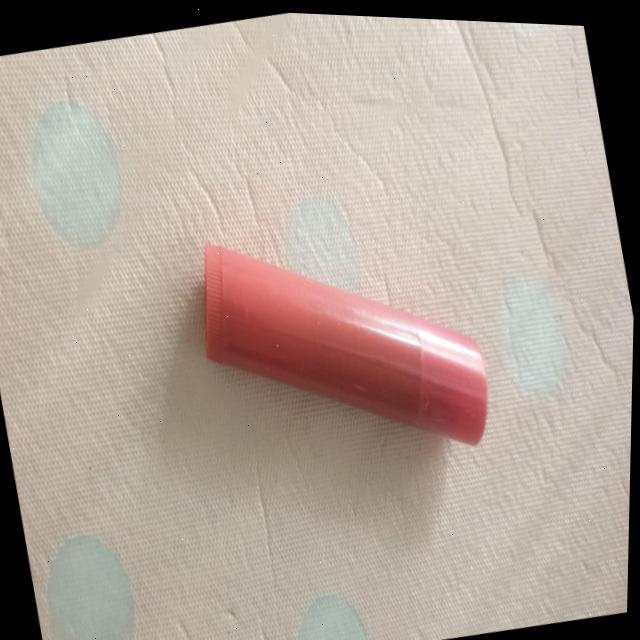lip stick: (153, 145, 529, 528)
